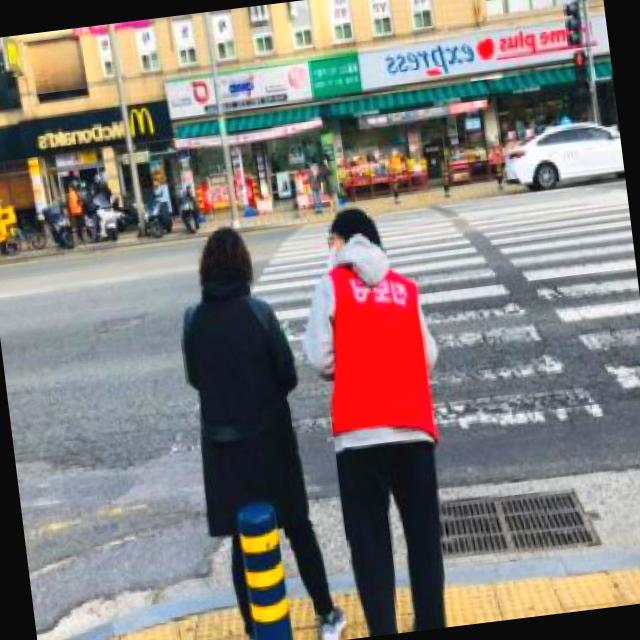Person: (169, 215, 346, 640), (296, 202, 462, 636)
